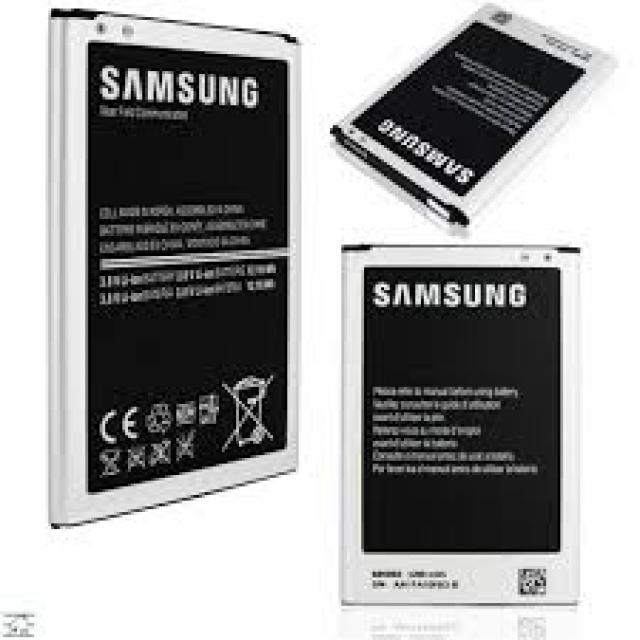battery: (51, 4, 300, 528), (336, 243, 574, 610), (329, 5, 620, 228)
